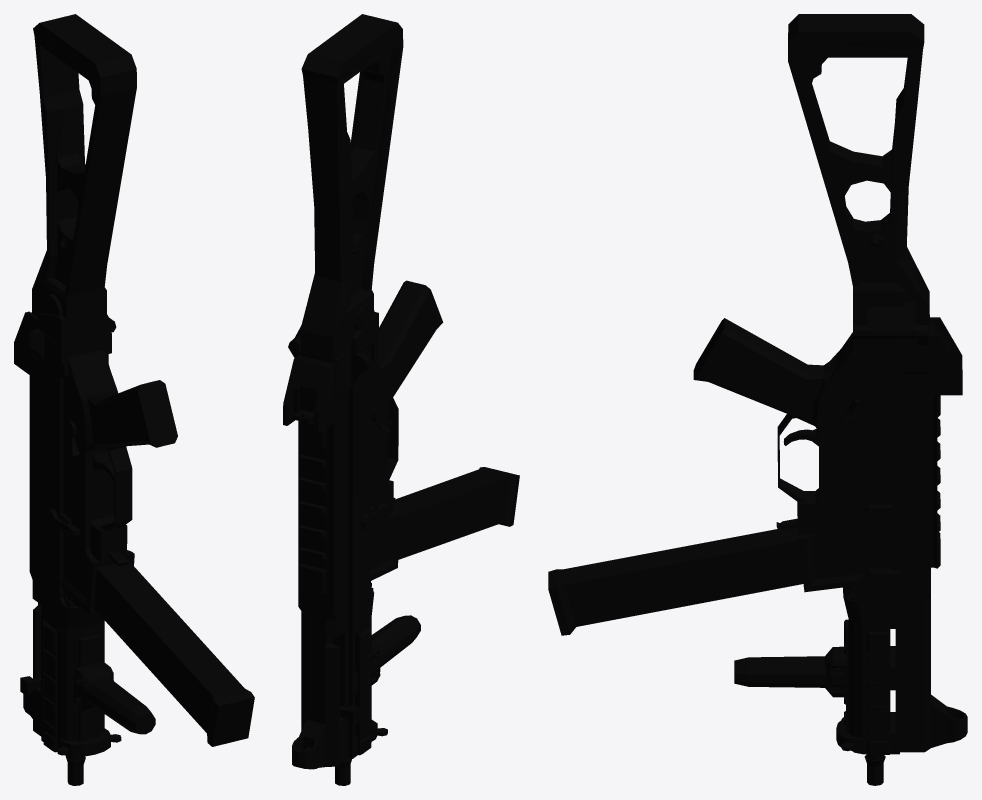
The model's file is w_smg_ump45.obj.
3 renders of one model, left to right at view 1: azimuth 30°, elevation 25°; view 2: azimuth 150°, elevation 25°; view 3: azimuth 270°, elevation 25°, orthographic. The views are drawn at different scales.
Size of the model in its own units: 0.0278 by 0.2928 by 0.1465.
Materials: 1 (1 with a texture image).
